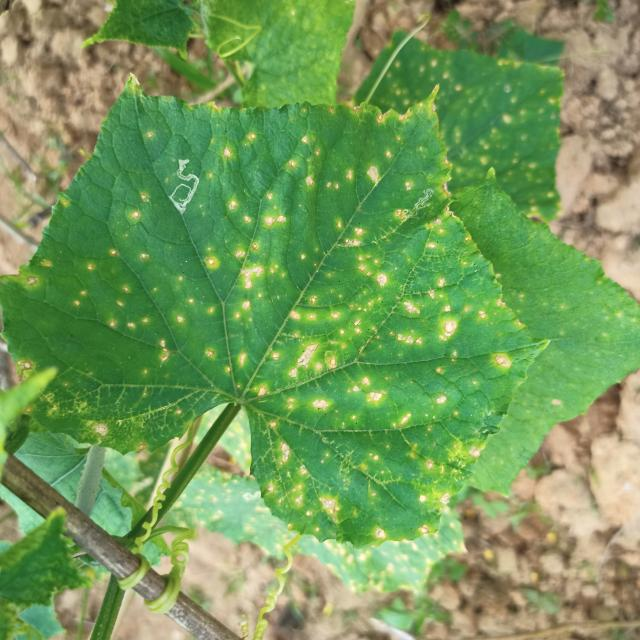disease_cucumber: (54, 99, 498, 528)
